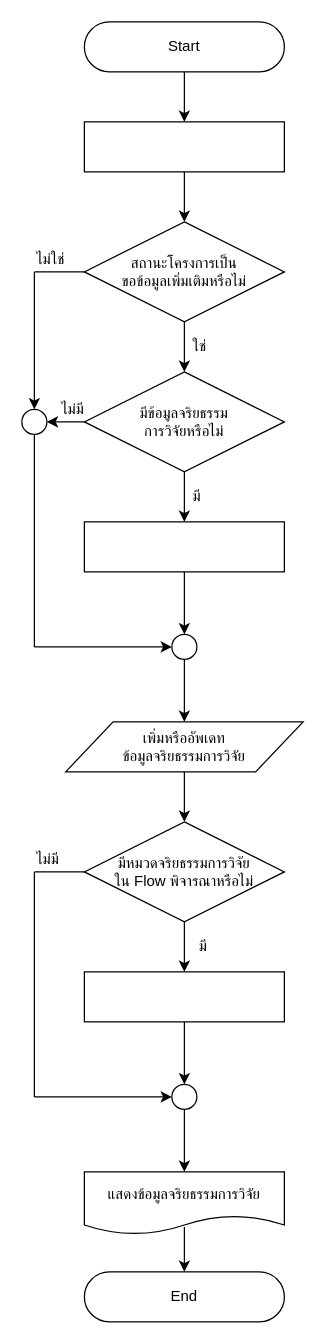
This 325x1344 diagram has some shape labels left out. The shapes that lost their labels are listed below. From the top down, each one's centre as x and y in pixels, then its label:
[183,146]: ข้อเสนอโครงการ
[183,546]: อัพเดทข้อมูลจริยธรรมทั้งมหดเป็น flag ข้อเสนอโครงการ
[183,996]: ยกเลิกการพิจารณา ของหมวดจริยธรรมการวิจัย ที่มีการอัพเดทข้อมูล
